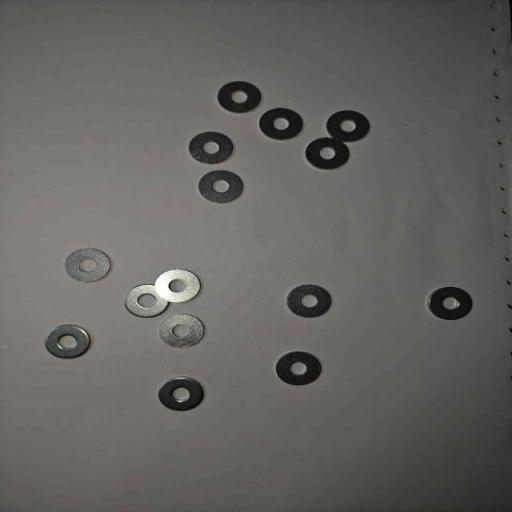washer: (152, 268, 202, 304), (44, 323, 91, 360), (157, 375, 204, 412), (123, 283, 170, 320), (159, 311, 206, 348), (426, 285, 474, 321), (198, 168, 244, 205), (276, 350, 322, 386), (286, 283, 332, 319), (65, 248, 112, 282), (189, 130, 234, 165), (217, 80, 262, 115), (258, 106, 304, 140), (304, 136, 350, 170), (326, 110, 370, 143)
